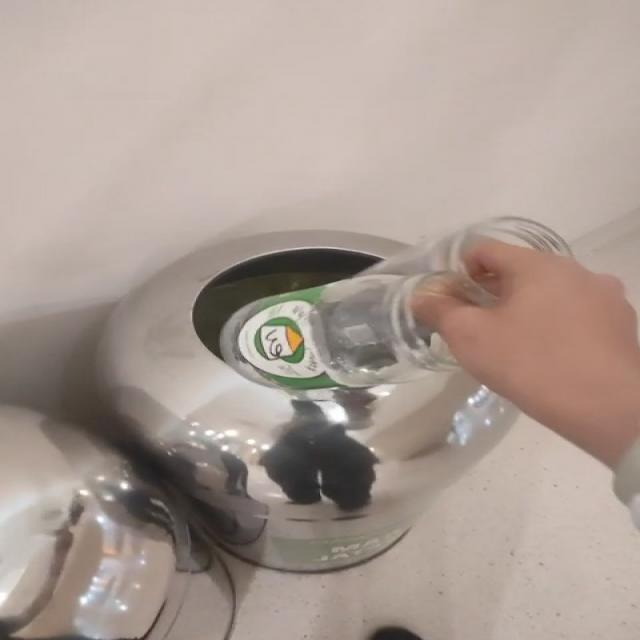Glass: (220, 218, 571, 400)
